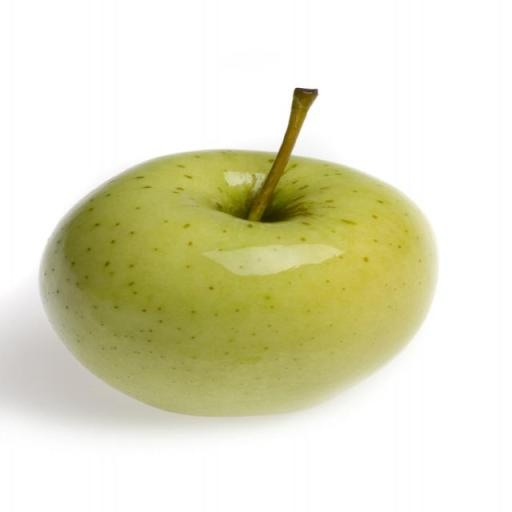fruit: (41, 151, 435, 415)
